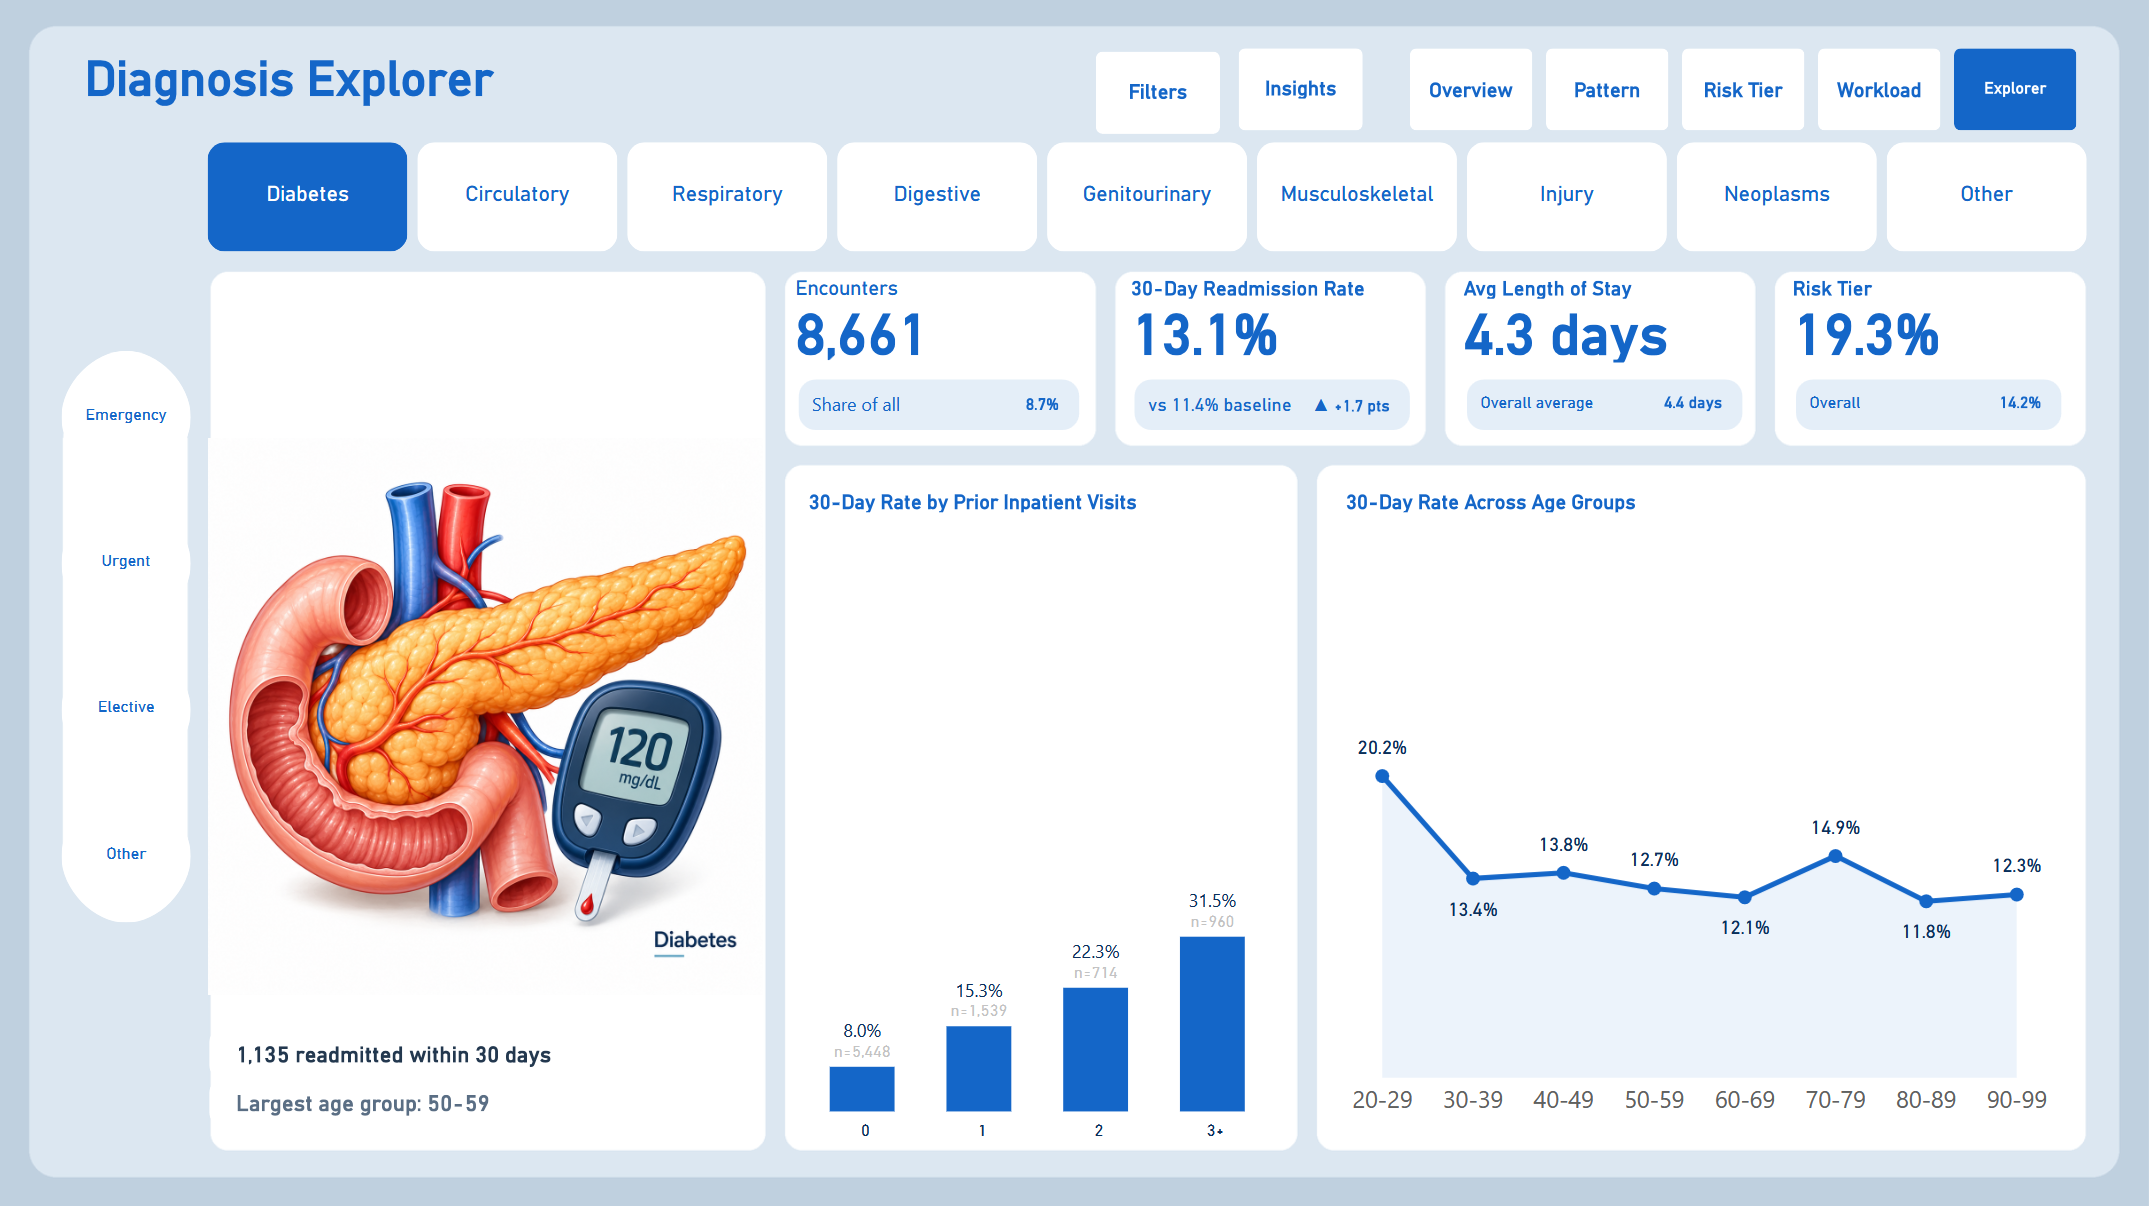

The dashboard page shown, as its layout file describes it:
{"tool":"powerbi","page":{"name":"Explorer","canvas":[1280,720],"ordinal":4},"visuals":[{"type":"textbox","box":[50.5,29.7,529.2,55],"z":0},{"type":"cardVisual","title":"Total Encounters","fields":{"Data":["_Measures.Encounters Display"]},"box":[465.5,166.1,187.1,100.3],"z":1000},{"type":"cardVisual","title":"Total Encounters","fields":{"Data":["_Measures.Readmission Rate"]},"box":[666.1,166.1,184.1,100.3],"z":2000},{"type":"cardVisual","title":"Total Encounters","fields":{"Data":["_Measures.Tier Share"]},"box":[1059.8,166.1,178.1,100.3],"z":3000},{"type":"clusteredColumnChart","title":"30-Day Rate by Prior Inpatient Visits","fields":{"Category":["Encounters.Prior Visits Group"],"Y":["_Measures.Rate (min 30)"]},"box":[466,277.5,308.4,419.7],"z":4000},{"type":"cardVisual","title":"Total Encounters","fields":{"Data":["_Measures.Avg Length of Stay"]},"box":[863.7,166.1,184.1,100.3],"z":5000},{"type":"advancedSlicerVisual","fields":{"Values":["Diagnosis Group.diag_group"]},"box":[124.2,85.3,1124.1,64.4],"z":6000},{"type":"image","box":[124.2,166.1,330.8,519.4],"z":7000},{"type":"lineChart","title":"30-Day Rate Across Age Groups","fields":{"Category":["Encounters.age_band"],"Y":["_Measures.Rate (min 30)"]},"box":[786.4,277.5,452.3,407.7],"z":8000},{"type":"cardVisual","fields":{"Data":["_Measures.Top Age Caption"]},"box":[125.1,642.4,193.6,27.4],"z":9000},{"type":"cardVisual","fields":{"Data":["_Measures.Readmitted Caption"]},"box":[125.1,611.6,224.4,30.8],"z":10000},{"type":"pageNavigator","box":[839.6,28.9,397.7,49.3],"z":11000},{"type":"actionButton","title":"Insight","box":[737.6,28.9,74.8,49.3],"z":12000},{"type":"actionButton","title":"Filter","box":[652.6,30.6,74.8,49.3],"z":14000},{"type":"advancedSlicerVisual","fields":{"Values":["Admission Type.Admission Strip"]},"box":[39,209,74,343],"z":16000}]}

Visuals, with their boxes in screenshot pixels (x1, y1, x2, y2), scaled from the page's 1280x720 canvas onto the 2149x1206 screenshot:
textbox: <bbox>85, 50, 973, 142</bbox>
"Total Encounters" cardVisual: <bbox>782, 278, 1096, 446</bbox>
"Total Encounters" cardVisual: <bbox>1118, 278, 1427, 446</bbox>
"Total Encounters" cardVisual: <bbox>1779, 278, 2078, 446</bbox>
"30-Day Rate by Prior Inpatient Visits" clusteredColumnChart: <bbox>782, 465, 1300, 1168</bbox>
"Total Encounters" cardVisual: <bbox>1450, 278, 1759, 446</bbox>
advancedSlicerVisual - Diagnosis Group.diag_group: <bbox>209, 143, 2096, 251</bbox>
image: <bbox>209, 278, 764, 1148</bbox>
"30-Day Rate Across Age Groups" lineChart: <bbox>1320, 465, 2080, 1148</bbox>
cardVisual - _Measures.Top Age Caption: <bbox>210, 1076, 535, 1122</bbox>
cardVisual - _Measures.Readmitted Caption: <bbox>210, 1024, 587, 1076</bbox>
pageNavigator: <bbox>1410, 48, 2077, 131</bbox>
"Insight" actionButton: <bbox>1238, 48, 1364, 131</bbox>
"Filter" actionButton: <bbox>1096, 51, 1221, 134</bbox>
advancedSlicerVisual - Admission Type.Admission Strip: <bbox>65, 350, 190, 925</bbox>
